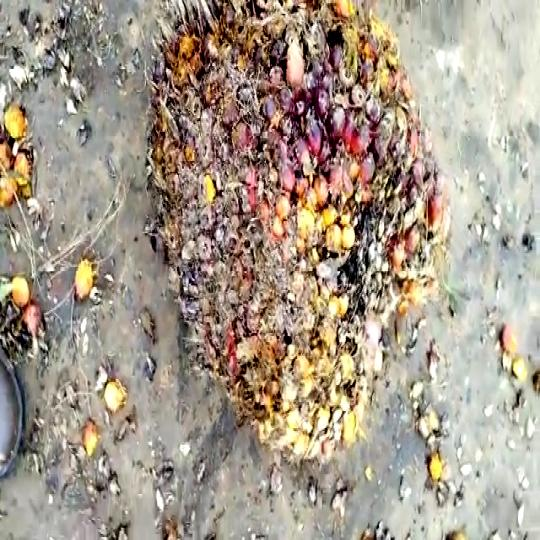masak: (141, 0, 453, 472)
